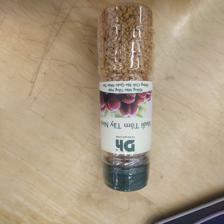TayNinh_green: (97, 2, 152, 195)
